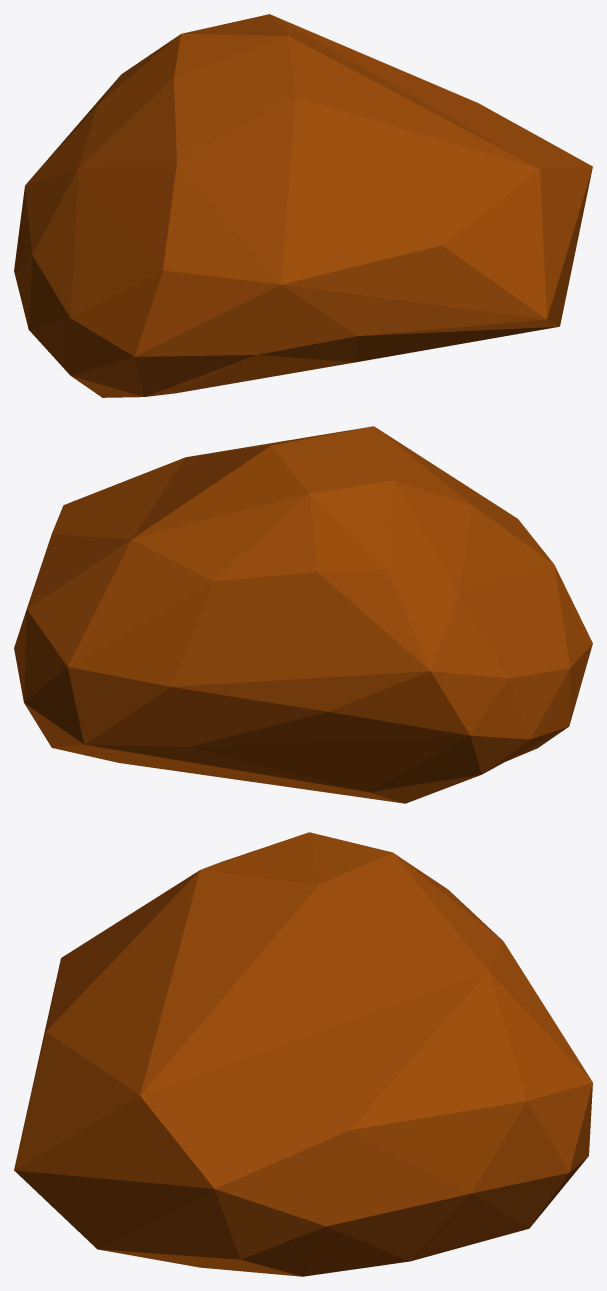
File: SM_Bush_02.fbx
3 renders of one model, top to bottom at view 1: azimuth 30°, elevation 25°; view 2: azimuth 150°, elevation 25°; view 3: azimuth 270°, elevation 25°, orthographic. The views are drawn at different scales.
Visible parts, largest first — view 1: SM_Bush_02; view 2: SM_Bush_02; view 3: SM_Bush_02.
Boxes of the visible parts, left/top/right/bottom form: SM_Bush_02: left=14, top=14, right=592, bottom=397; SM_Bush_02: left=14, top=426, right=592, bottom=803; SM_Bush_02: left=14, top=832, right=592, bottom=1276.
Bounding box in the file's own units: 405 × 233 × 366.
